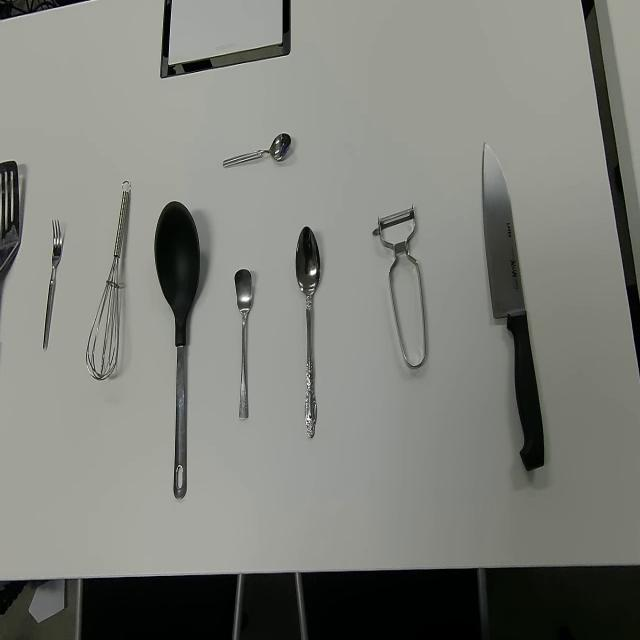Desert-Spoon: (295, 225, 321, 440)
Dinner-Fork: (42, 216, 63, 352)
Kitchen-Knife: (481, 141, 546, 474)
Peeler: (372, 202, 426, 370)
Serving-Spoon: (153, 198, 201, 502), (0, 158, 21, 441)
Tea-Spoon: (234, 268, 253, 420), (222, 131, 292, 171)
Whisk: (85, 180, 131, 381)
